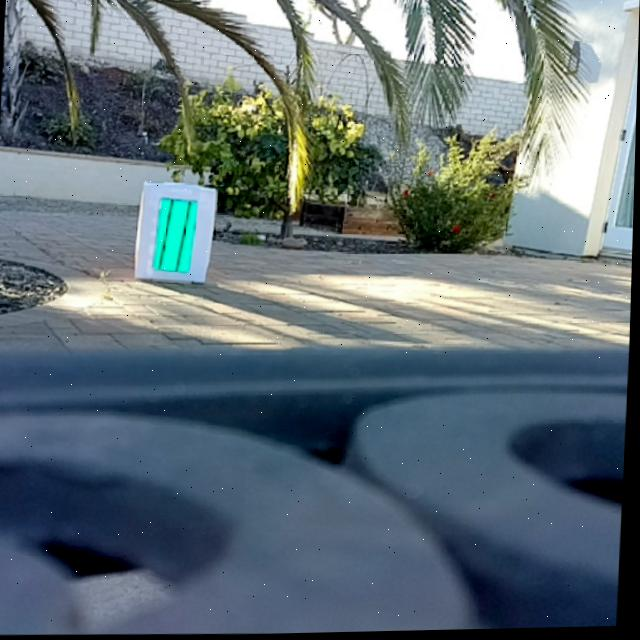led: (156, 197, 198, 273)
